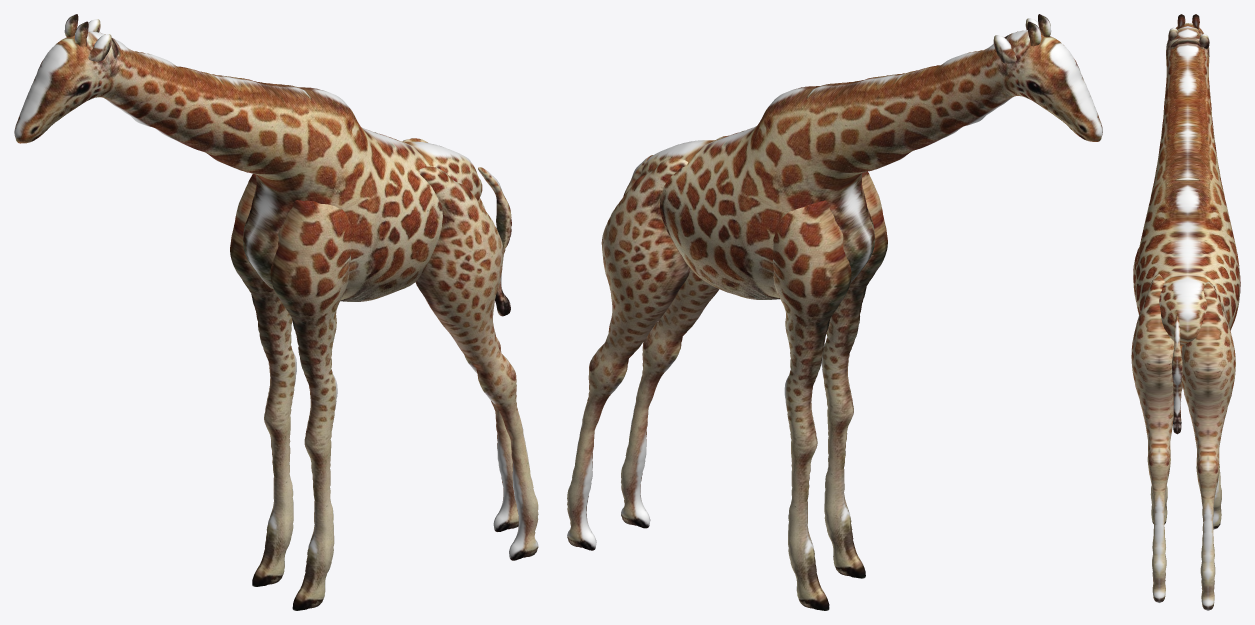
Rendered from giraffe.glb.
3 renders of one model, left to right at view 1: azimuth 30°, elevation 25°; view 2: azimuth 150°, elevation 25°; view 3: azimuth 270°, elevation 25°, orthographic. The views are drawn at different scales.
Visible parts, largest first — view 1: Mesh_0; view 2: Mesh_0; view 3: Mesh_0.
Part boxes in pixels (left/top/right/bottom): Mesh_0: left=14, top=14, right=538, bottom=610; Mesh_0: left=567, top=14, right=1102, bottom=610; Mesh_0: left=1131, top=14, right=1240, bottom=610.
Bounding box in the file's own units: 6.45 × 7.44 × 1.66.
Materials: 1 (1 with a texture image).
